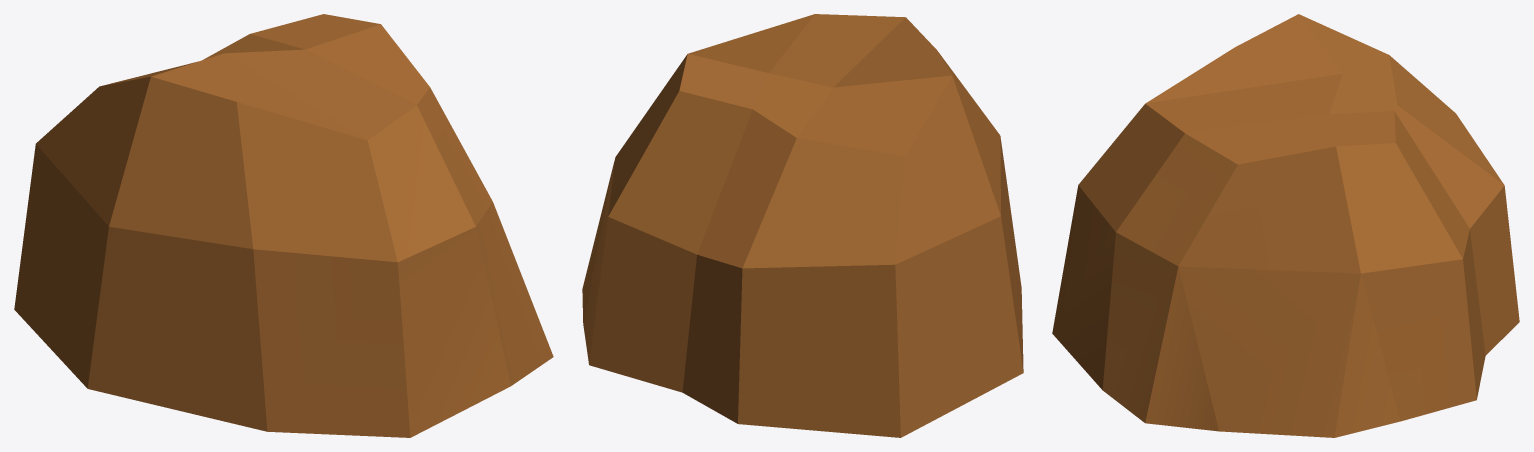
File: HardRock_41.fbx
3 views of the same model, side by side, from view 1: azimuth 30°, elevation 25°; view 2: azimuth 150°, elevation 25°; view 3: azimuth 270°, elevation 25° (orthographic). The views are drawn at different scales.
Visible parts, largest first — view 1: HardRock_41; view 2: HardRock_41; view 3: HardRock_41.
Boxes of the visible parts, x1,y1,x2,y2 form: HardRock_41: (14,14,553,437); HardRock_41: (582,14,1023,437); HardRock_41: (1052,14,1519,437).
Size of the model in its own units: 141 by 93.48 by 148.
